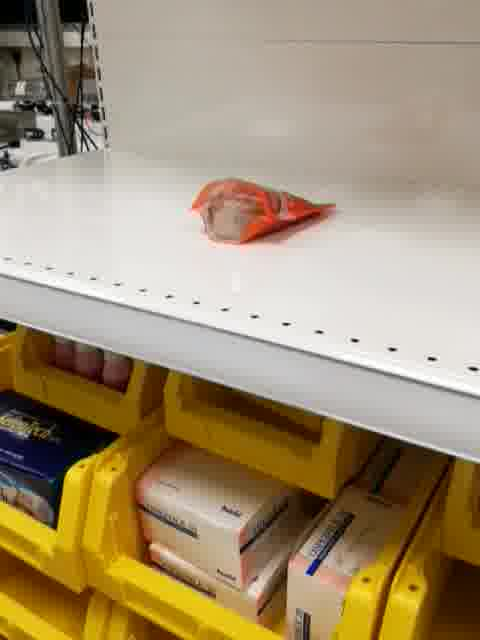whitechia: (186, 177, 337, 246)
